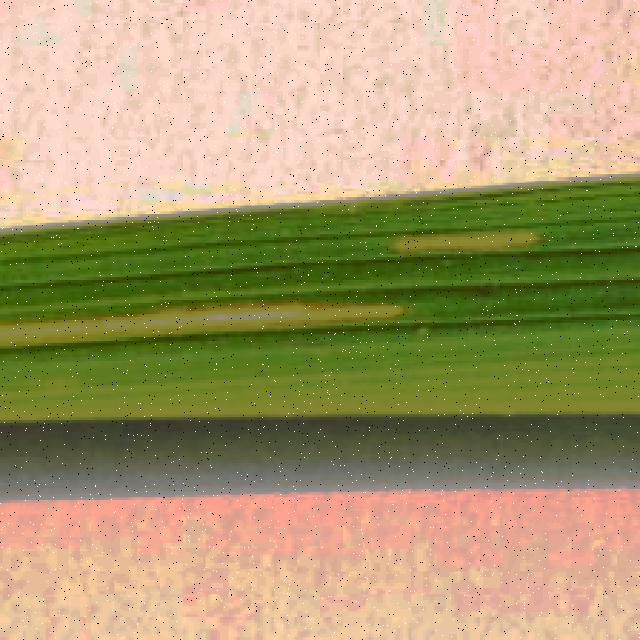unhealth: (0, 228, 640, 417)
